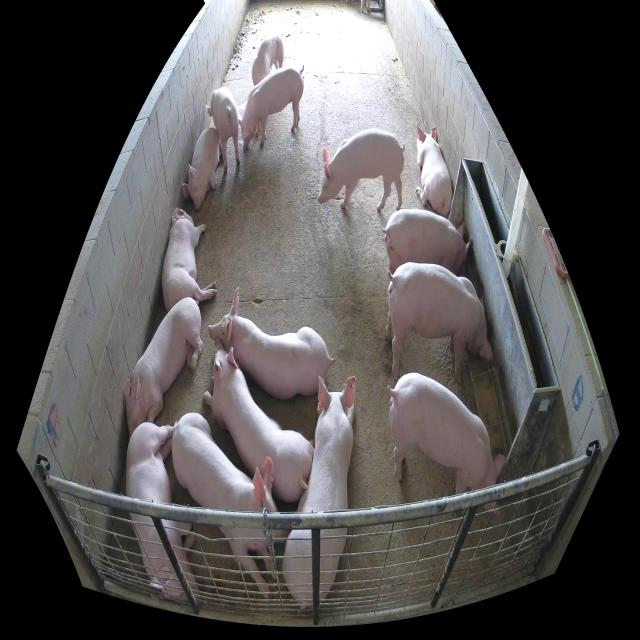pig: (172, 413, 279, 603), (202, 335, 313, 501), (283, 376, 357, 608), (390, 373, 507, 508), (126, 423, 204, 605), (384, 260, 493, 384), (210, 286, 332, 394), (125, 299, 203, 438), (317, 128, 406, 217), (161, 206, 218, 314), (239, 65, 305, 152), (384, 209, 470, 275), (182, 127, 224, 210), (416, 122, 452, 216), (206, 87, 242, 170), (252, 33, 285, 86)
